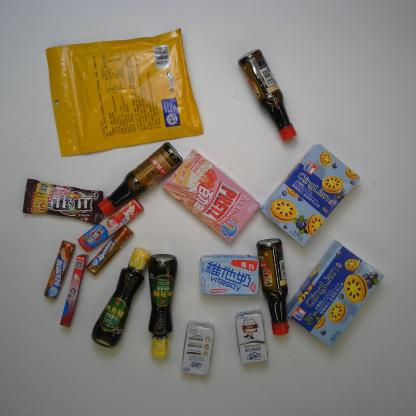Candy: (78, 199, 144, 254), (85, 225, 135, 274), (57, 252, 88, 328), (43, 238, 76, 302)
Chocolate: (20, 176, 105, 226)
Dessert: (260, 143, 362, 247), (284, 240, 383, 346), (159, 147, 259, 243)
Dried Fruit: (44, 25, 204, 159)
Milk: (197, 251, 259, 299), (232, 309, 270, 366), (179, 320, 215, 378)
Seasoner: (97, 140, 183, 216), (91, 246, 148, 349), (236, 46, 297, 142), (256, 238, 290, 338), (147, 253, 178, 359)
